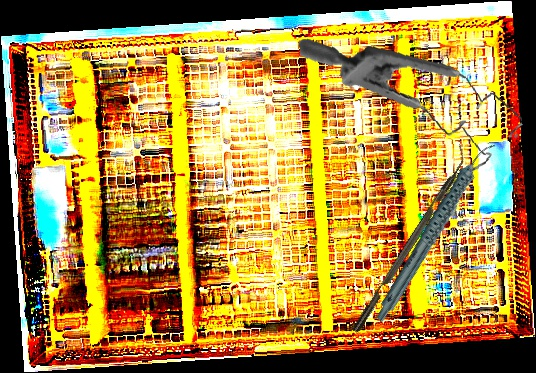Chopper: (342, 143, 476, 334)
Handpiece: (343, 139, 528, 323)
Speculum: (298, 13, 528, 191)
